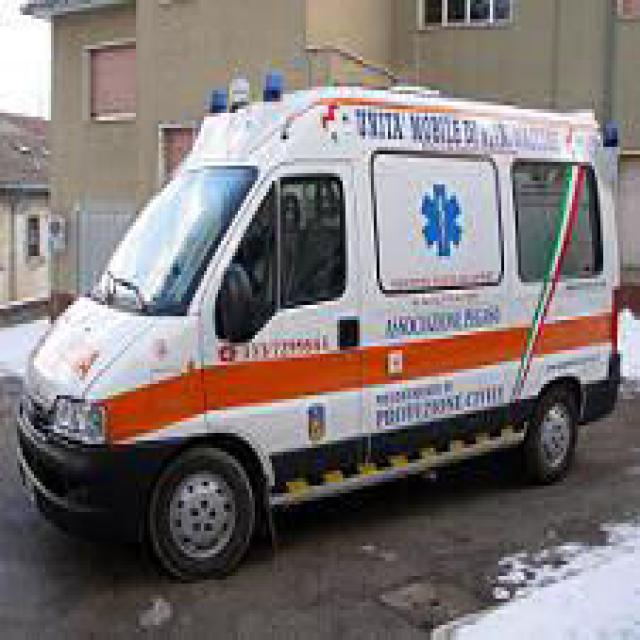emergency-vehicle: (20, 79, 623, 572)
